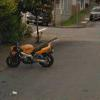Motorcycle: (5, 34, 64, 71)
